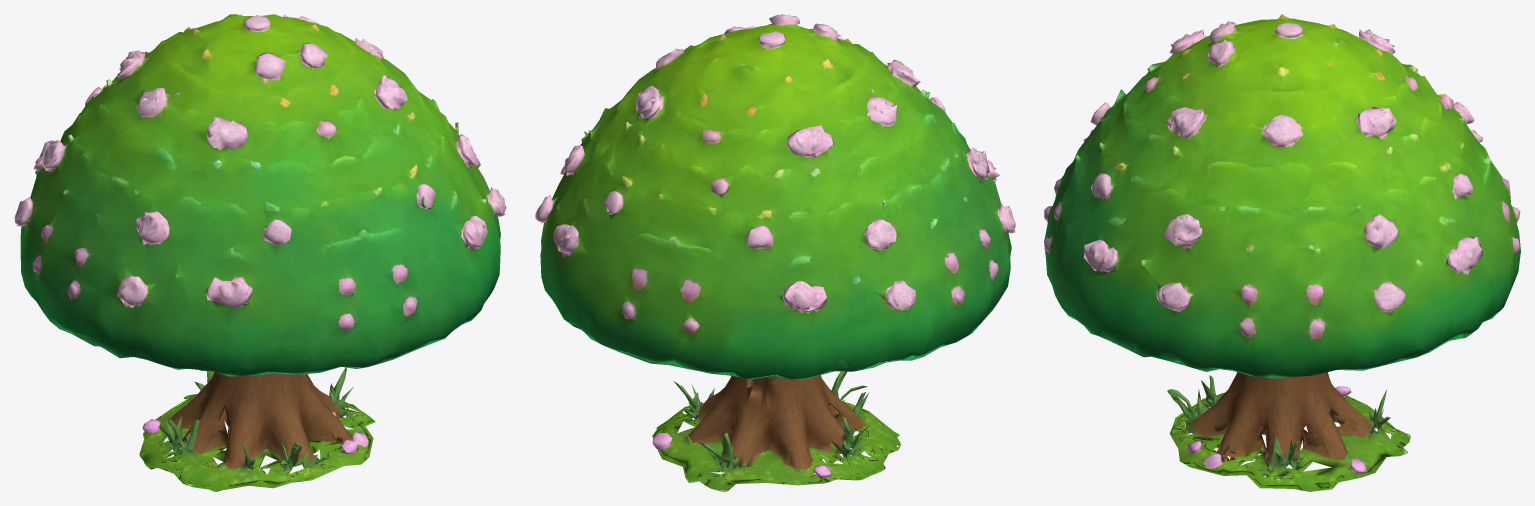
The model's file is raintree.glb.
The picture shows the model from 3 angles, left to right: view 1: azimuth 30°, elevation 25°; view 2: azimuth 150°, elevation 25°; view 3: azimuth 270°, elevation 25°; orthographic projection. The views are drawn at different scales.
Size of the model in its own units: 0.9977 by 0.9565 by 0.9962.
Materials: 1 (1 with a texture image).
